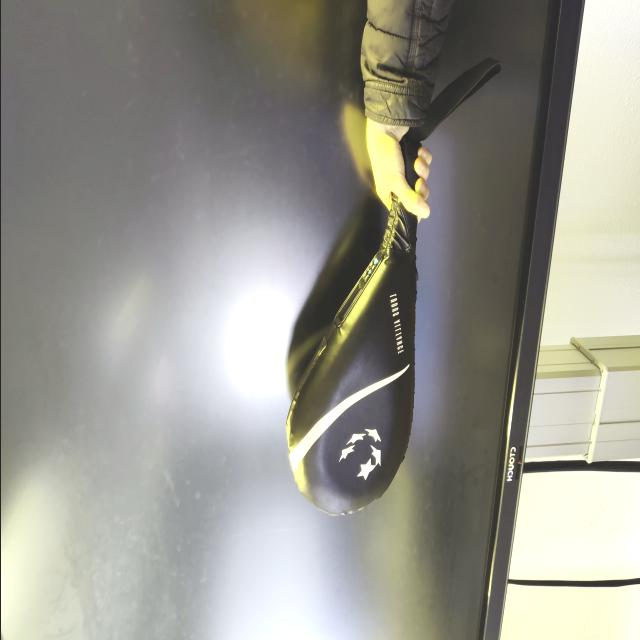paddle: (282, 197, 418, 514)
